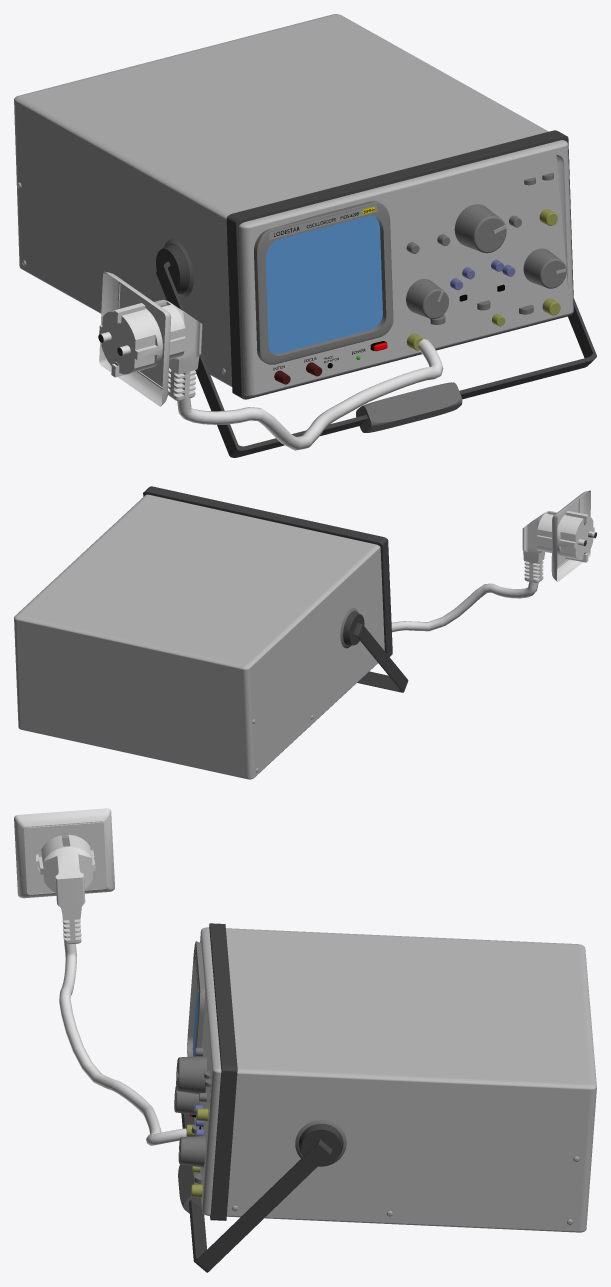
Rendered from CROnewwfbx.fbx.
The picture shows the model from 3 angles, top to bottom: view 1: azimuth 30°, elevation 25°; view 2: azimuth 150°, elevation 25°; view 3: azimuth 270°, elevation 25°; orthographic projection. The views are drawn at different scales.
Visible parts, largest first — view 1: Cube.002, Cube.012, Cube.013, power outlet, Cube.001, Cube.014, power plug 1 cable.001, Cube.015, power plug, Cylinder.001, Cylinder.016, Cylinder.010 (+2 smaller); view 2: Cube.002, Cube.013, power outlet, power plug, power plug 1 cable.001, Cube.014, Cylinder.028; view 3: Cube.002, power outlet, Cube.013, Cube.014, power plug, power plug 1 cable.001, Cube.001, Cylinder.001, Cylinder.002, Cylinder.016, Cube.015.
Part boxes in pixels (x1,y1,x2,y2): Cube.002: [14, 14, 573, 396]; Cube.012: [265, 215, 382, 353]; Cube.013: [226, 130, 574, 399]; power outlet: [98, 271, 171, 406]; Cube.001: [254, 200, 393, 364]; Cube.014: [156, 261, 596, 457]; power plug 1 cable.001: [177, 339, 443, 450]; Cube.015: [356, 382, 462, 432]; power plug: [123, 299, 202, 401]; Cylinder.001: [454, 204, 506, 253]; Cylinder.016: [523, 248, 566, 288]; Cylinder.010: [406, 279, 448, 318]; Cube.002: [14, 494, 384, 779]; Cube.013: [143, 486, 392, 656]; power outlet: [551, 490, 596, 581]; power plug: [522, 511, 592, 582]; power plug 1 cable.001: [391, 582, 538, 632]; Cube.014: [353, 622, 408, 692]; Cylinder.028: [343, 611, 364, 645]; Cube.002: [194, 927, 596, 1232]; power outlet: [14, 808, 114, 898]; Cube.013: [209, 923, 237, 1220]; Cube.014: [181, 1113, 332, 1272]; power plug: [38, 834, 95, 944]; power plug 1 cable.001: [59, 936, 186, 1145]; Cube.001: [187, 941, 205, 1056]; Cylinder.001: [176, 1056, 206, 1093]; Cylinder.002: [298, 1124, 343, 1165]; Cylinder.016: [178, 1136, 207, 1167]; Cube.015: [178, 1164, 201, 1213].
Size of the model in its own units: 1783 by 829 by 1821.
